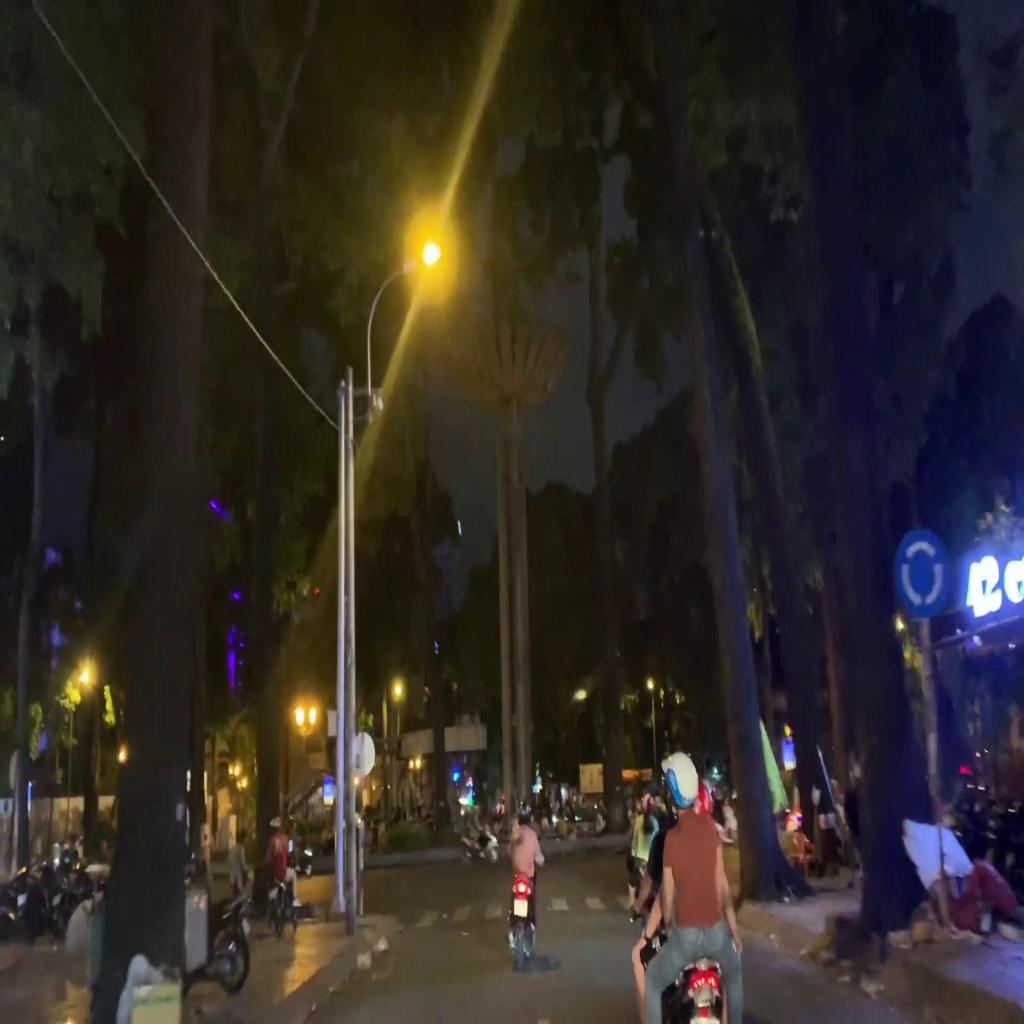noi_giao_nhau_chay_theo_vong: (892, 528, 946, 620)
